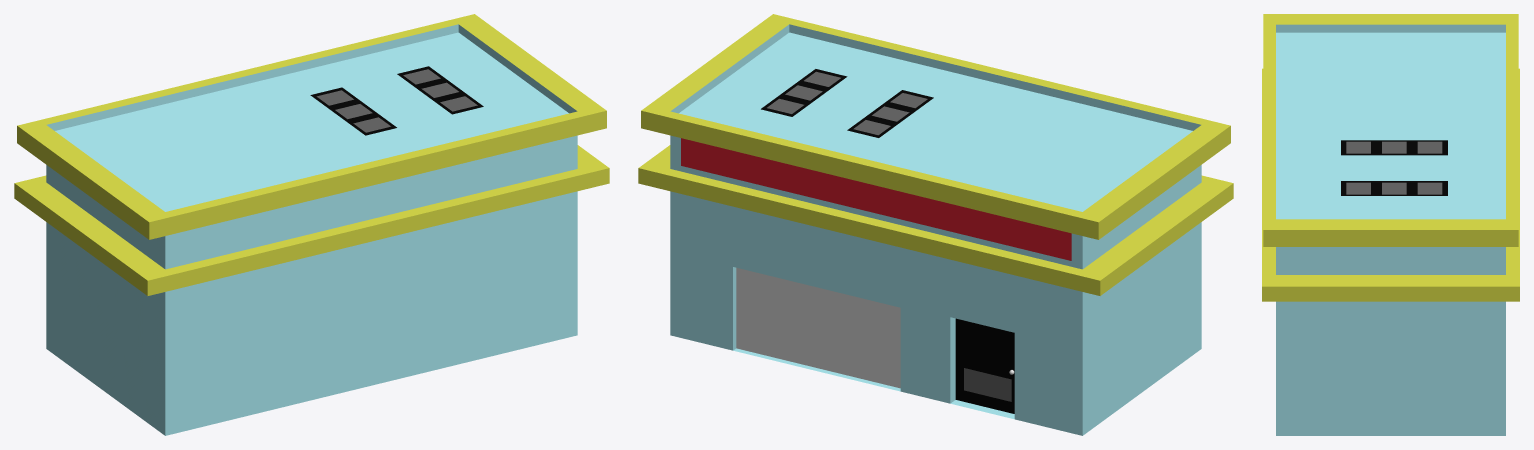
The model's file is shop1.fbx.
3 renders of one model, left to right at view 1: azimuth 30°, elevation 25°; view 2: azimuth 150°, elevation 25°; view 3: azimuth 270°, elevation 25°, orthographic. The views are drawn at different scales.
Parts seen in each view (by area): view 1: Shop_001; view 2: Shop_001; view 3: Shop_001.
Part boxes in pixels (box(x1,y1,x2,y2)): Shop_001: box(14, 14, 609, 435); Shop_001: box(638, 14, 1233, 435); Shop_001: box(1262, 14, 1519, 435).
Bounding box in the file's own units: 12731 × 5900 × 6365.
